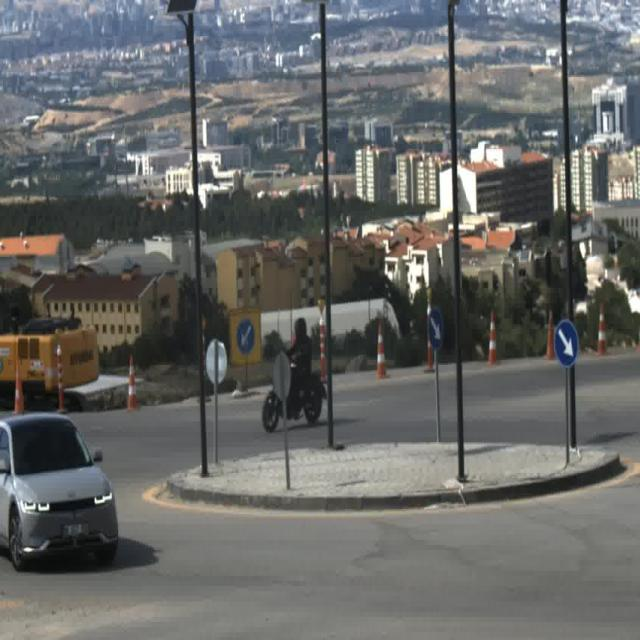Car: (0, 416, 120, 568)
Motorcycle: (259, 317, 326, 432)
